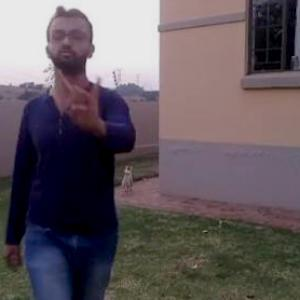takeoff-hand: (51, 64, 109, 132)
